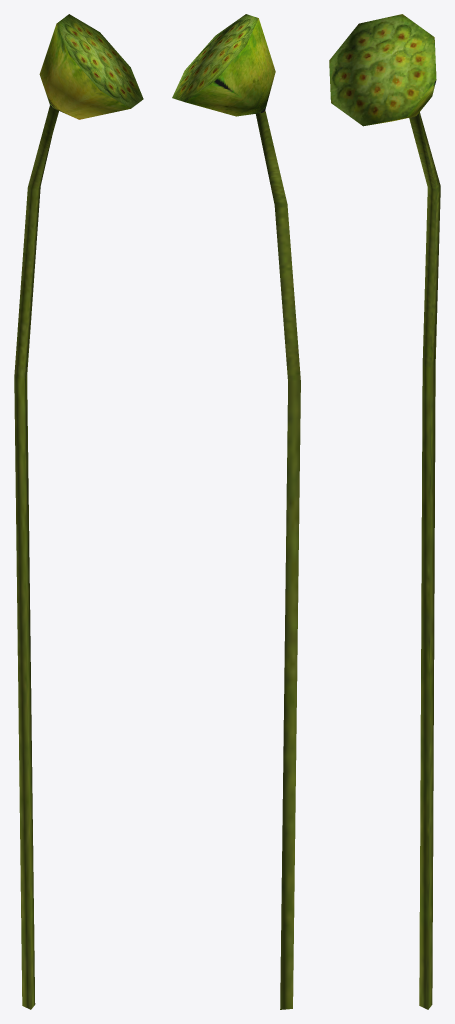
File: lotusflower_03.fbx
3 renders of one model, left to right at view 1: azimuth 30°, elevation 25°; view 2: azimuth 210°, elevation 25°; view 3: azimuth 270°, elevation 25°, orthographic.
Parts seen in each view (by area): view 1: lotusflower_03; view 2: lotusflower_03; view 3: lotusflower_03.
Part boxes in pixels (bbox=[...]): lotusflower_03: bbox=[14, 14, 143, 1009]; lotusflower_03: bbox=[172, 14, 300, 1009]; lotusflower_03: bbox=[329, 14, 440, 1009].
Bounding box in the file's own units: 0.1945 × 1.8 × 0.1816.
